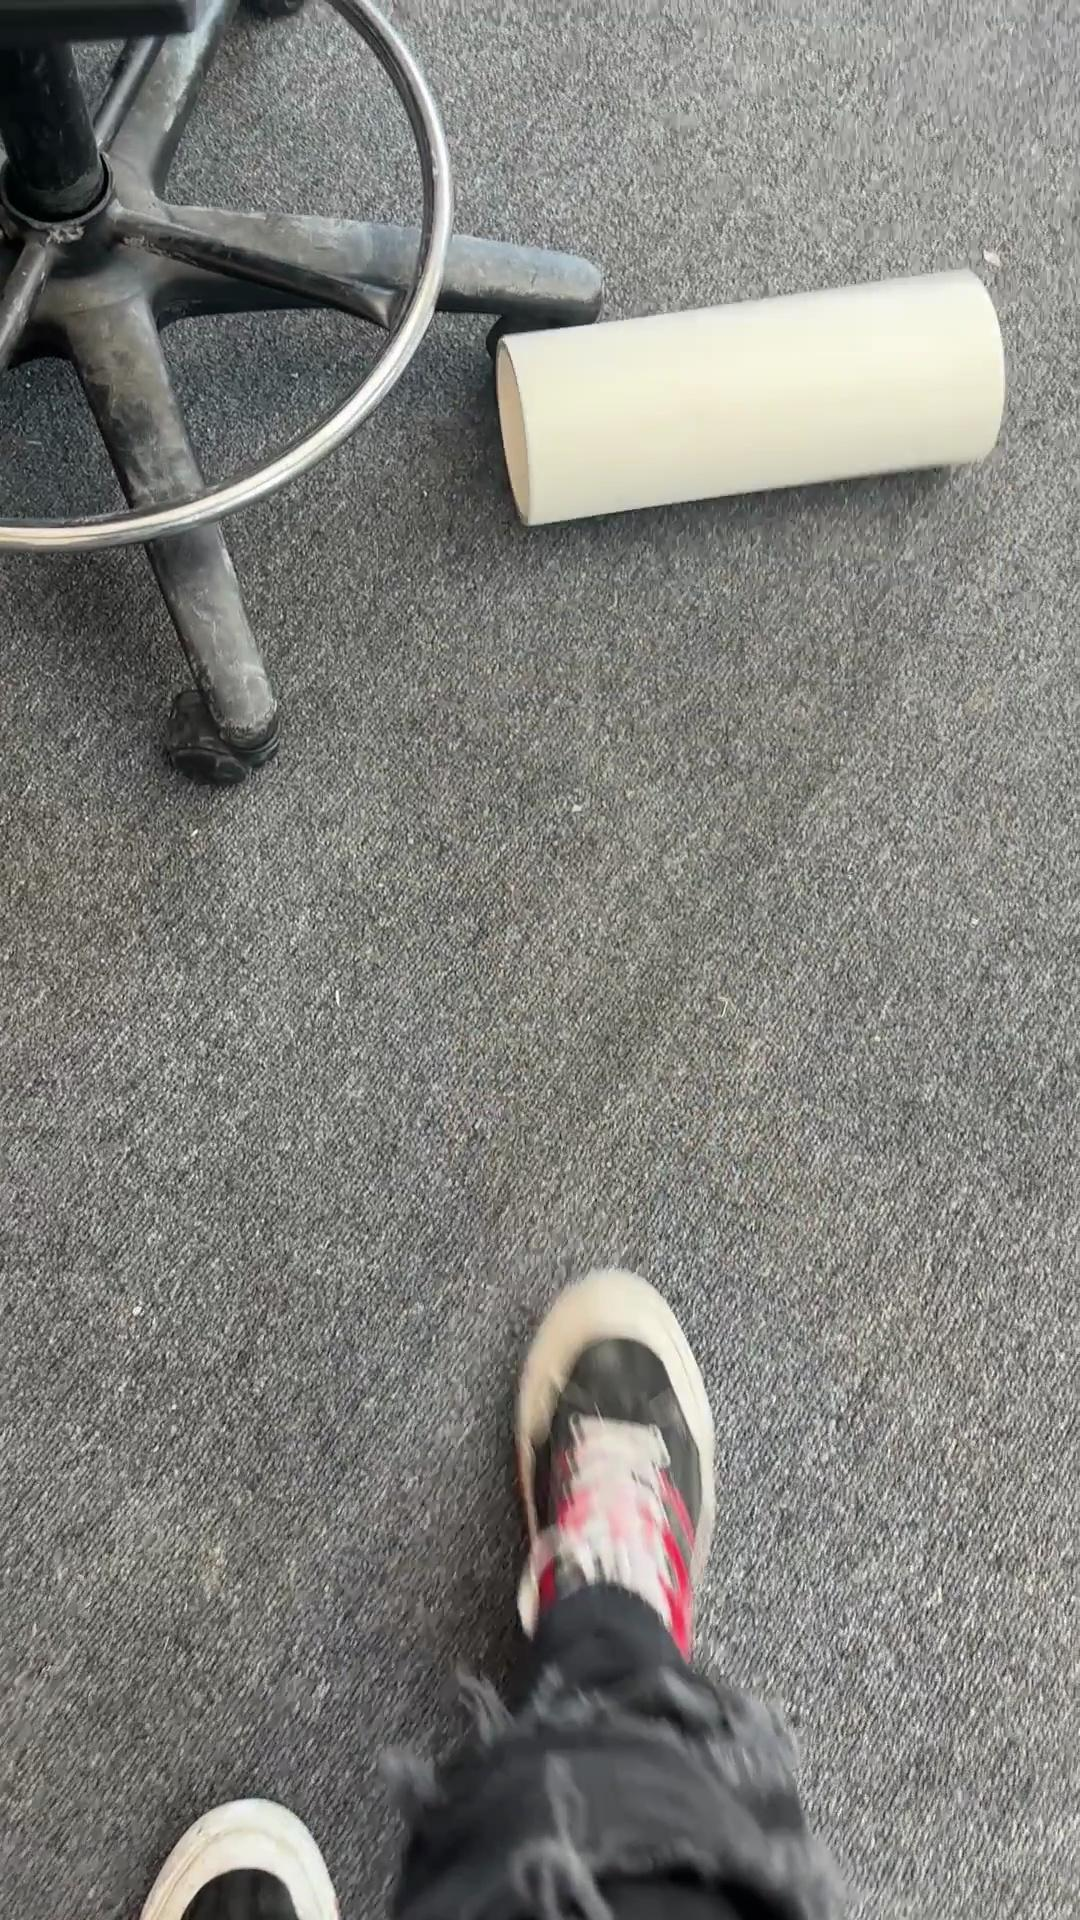CORAL: (491, 264, 1007, 527)
